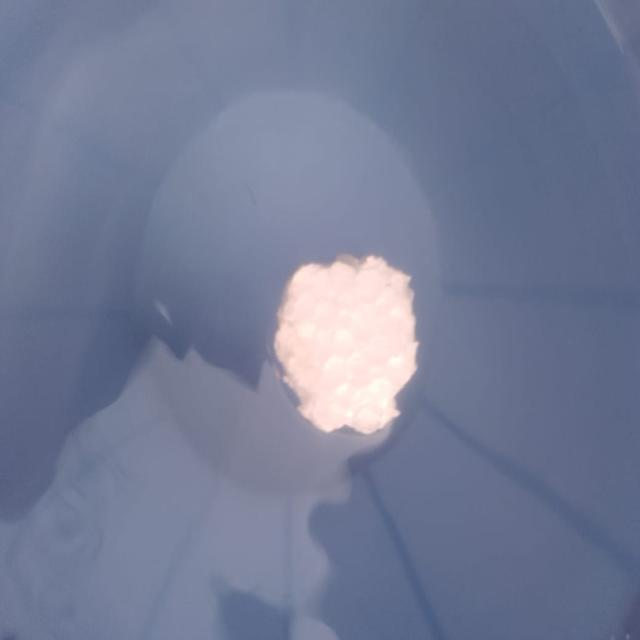litter: (261, 238, 426, 450)
